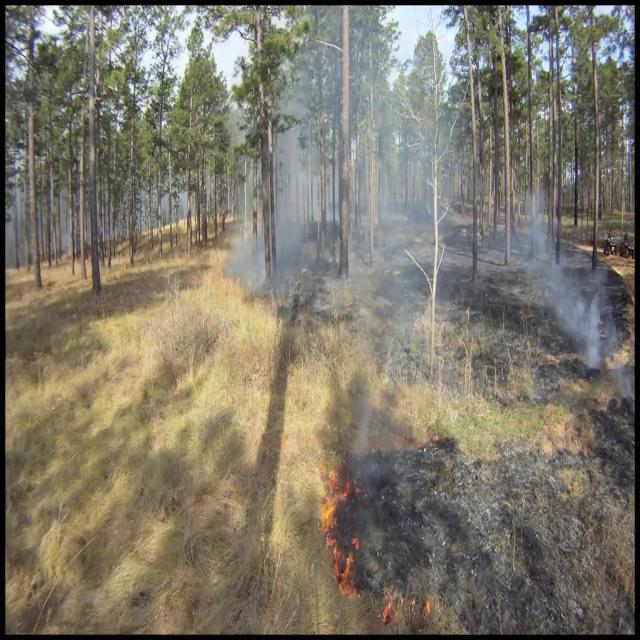Fire: (314, 453, 354, 541)
Smoke: (231, 1, 444, 349), (507, 182, 608, 366)
